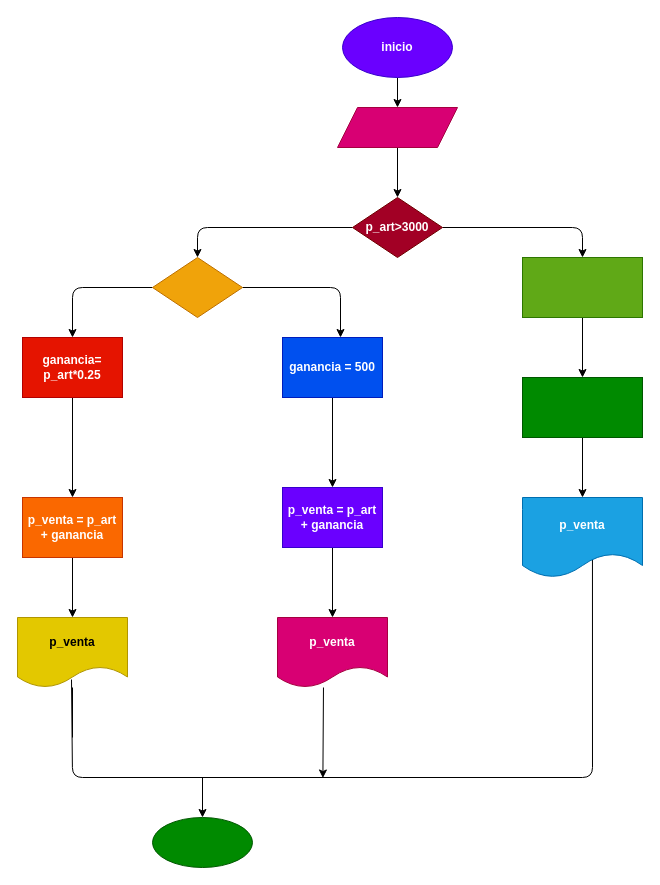
Image size: 660x885. Some labels were removed from this diagram. The centre of each missing label's shape, as x and y in pixels:
"fin" goes at (202,842).
"ganancia = p_art*0.15" goes at (582,287).
"p_art" goes at (397,127).
"p_art>6000" goes at (197,287).
"p_venta P_art + ganancia" goes at (582,407).
